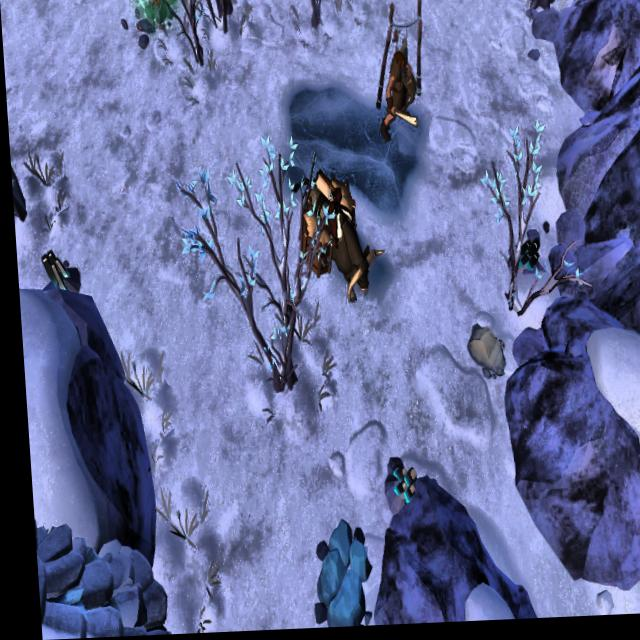enemy_factionKeeper: (373, 51, 419, 143)
ore_t4: (34, 244, 65, 290), (382, 463, 411, 508), (512, 242, 537, 278)
rock_t4: (299, 516, 368, 630)
